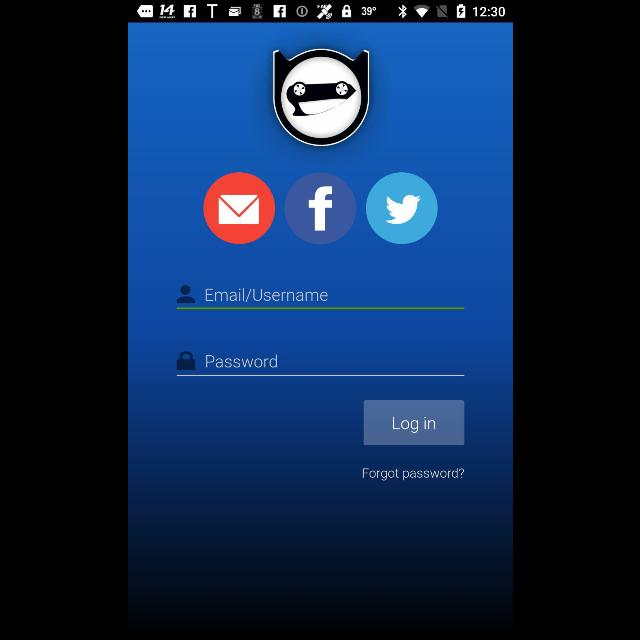icon: (365, 172, 437, 244), (284, 173, 356, 245), (202, 172, 274, 244), (177, 352, 196, 371), (176, 284, 194, 304)
image: (272, 49, 370, 148)
input: (176, 284, 464, 310), (176, 352, 464, 376)
text: (205, 288, 327, 302), (362, 468, 464, 480), (206, 354, 276, 368)
textbutton: (362, 400, 463, 446)
uppertaskbar: (128, 1, 512, 23)
